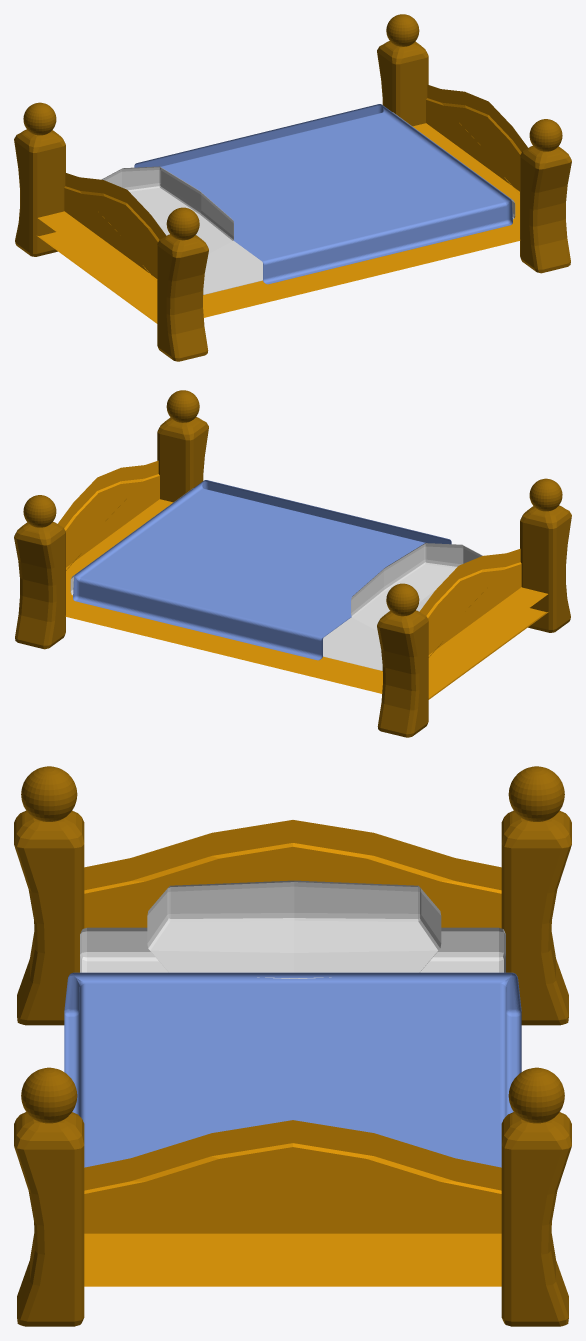
Rendered from Wooden Bed.glb.
3 renders of one model, top to bottom at view 1: azimuth 30°, elevation 25°; view 2: azimuth 150°, elevation 25°; view 3: azimuth 270°, elevation 25°, orthographic. The views are drawn at different scales.
Visible parts, largest first — view 1: Plane.004, Plane.002, Plane.001, Plane, Plane.005, Plane.003; view 2: Plane.004, Plane.002, Plane.001, Plane, Plane.005, Plane.003; view 3: Plane.004, Plane.001, Plane.002, Plane.005, Plane, Plane.003.
Part boxes in pixels (x1,y1,x2,y2): Plane.004: (134,104,512,284); Plane.002: (14,14,571,361); Plane.001: (38,84,527,305); Plane: (37,215,520,323); Plane.005: (102,166,233,253); Plane.003: (203,112,515,294); Plane.004: (73,480,451,660); Plane.002: (14,390,571,737); Plane.001: (58,460,547,681); Plane: (65,591,548,699); Plane.005: (351,543,482,630); Plane.003: (70,488,382,670); Plane.004: (64,972,521,1167); Plane.001: (84,820,501,1256); Plane.002: (14,766,571,1326); Plane.005: (147,880,441,978); Plane: (84,1256,501,1286); Plane.003: (80,927,505,972).
Size of the model in its own units: 0.5514 by 0.1904 by 0.3926.
